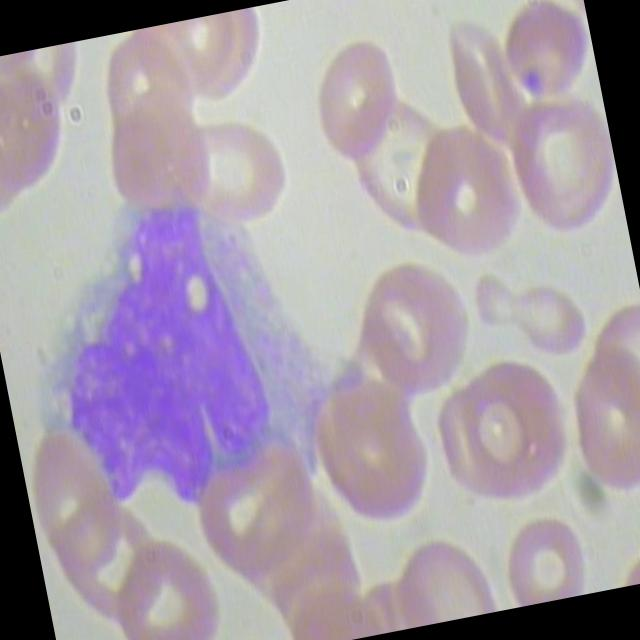RBC: (328, 242, 489, 409), (483, 78, 629, 260), (300, 31, 416, 180), (102, 518, 235, 640), (479, 0, 602, 117)
WBC: (0, 162, 359, 535)
